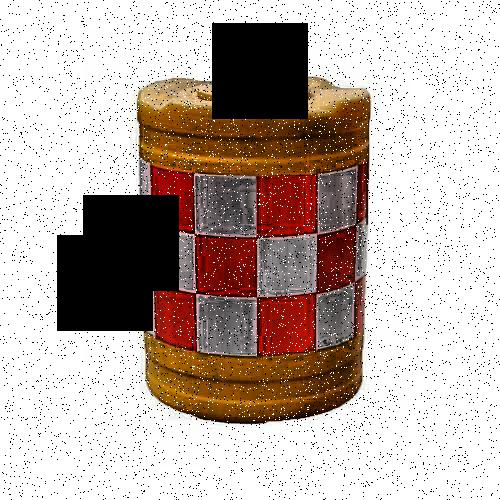bench: (122, 67, 380, 428)
